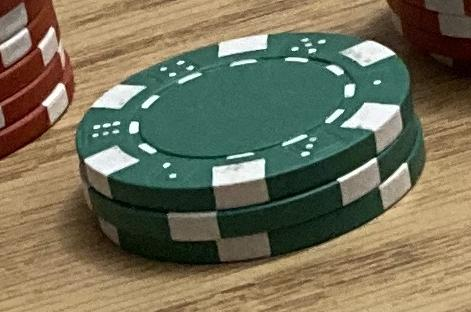Chip: (1, 1, 471, 312)
